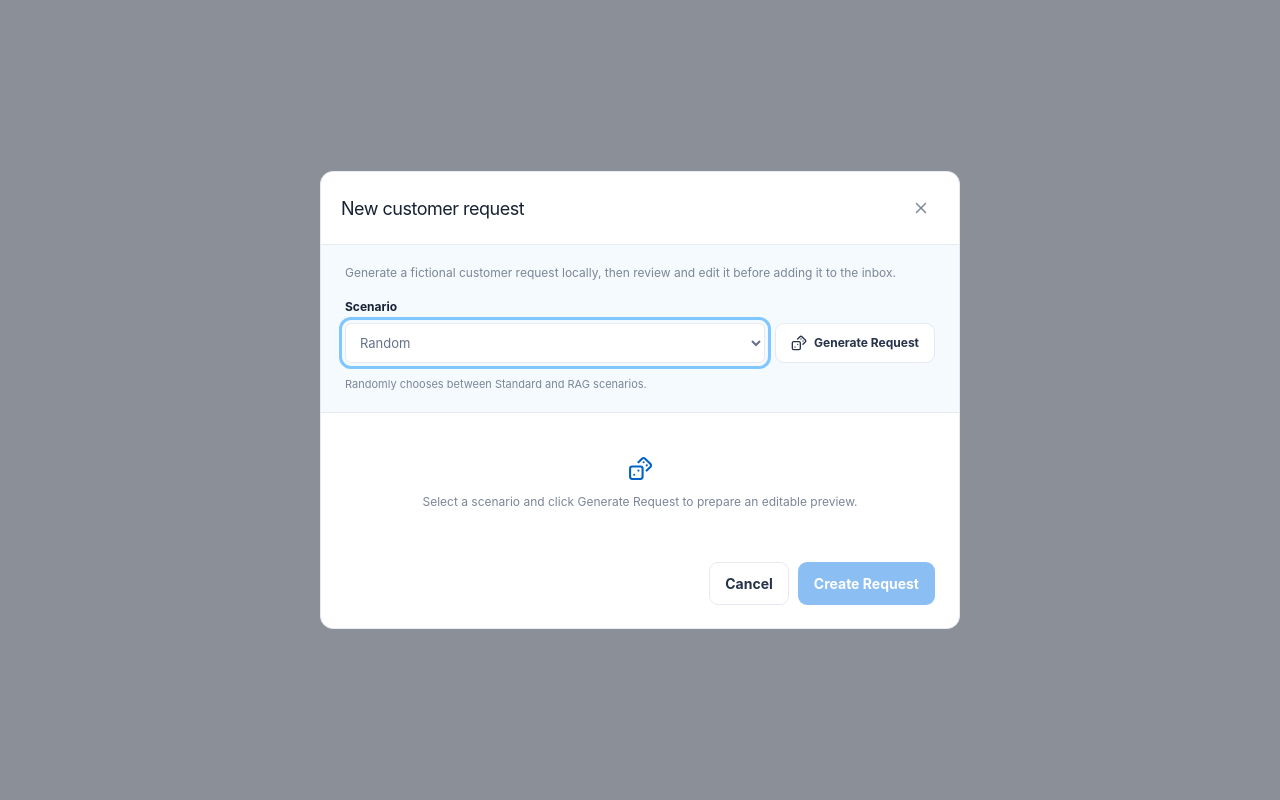
Scenario: regenerates another example without submitting anything
Select "Standard" in the dropdown labelled "Scenario" at (555, 343), box [345,323,765,363]
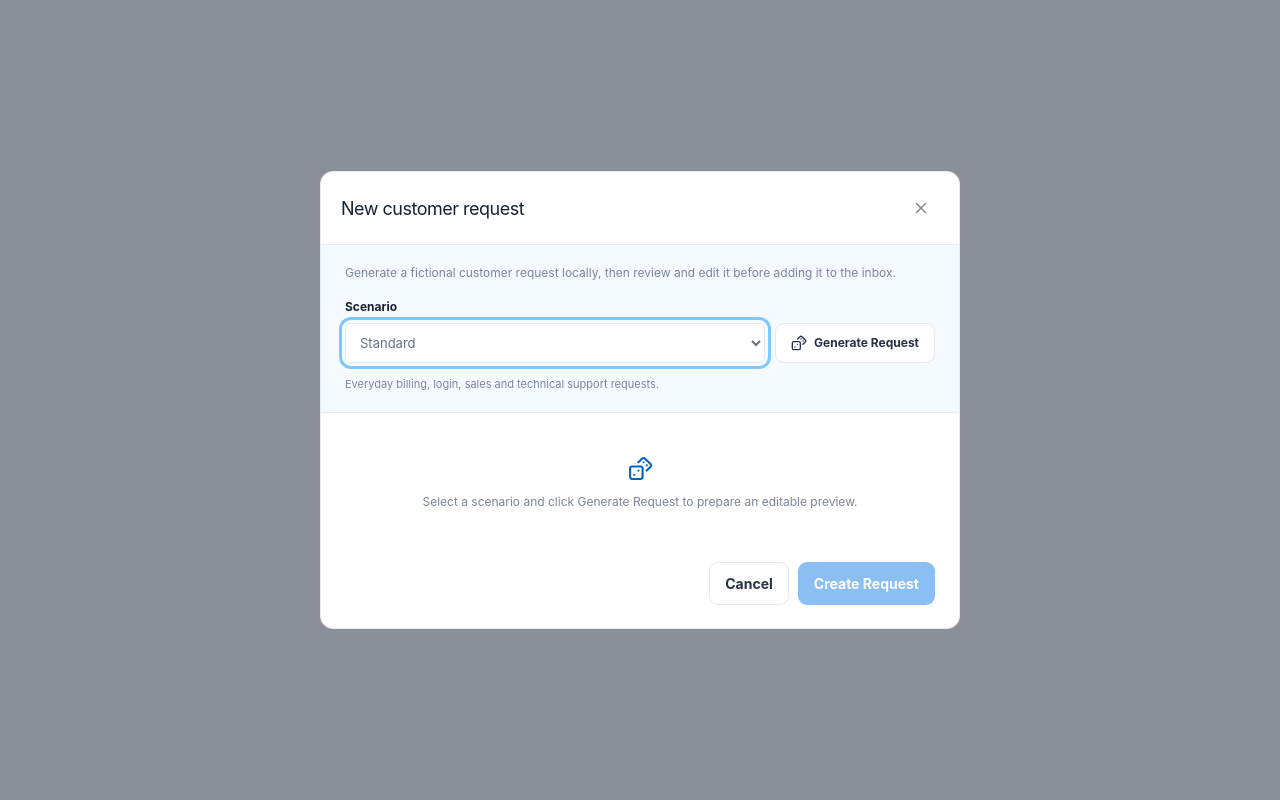
Click the button "Generate Request".
click(855, 343)  # box [775,323,935,363]
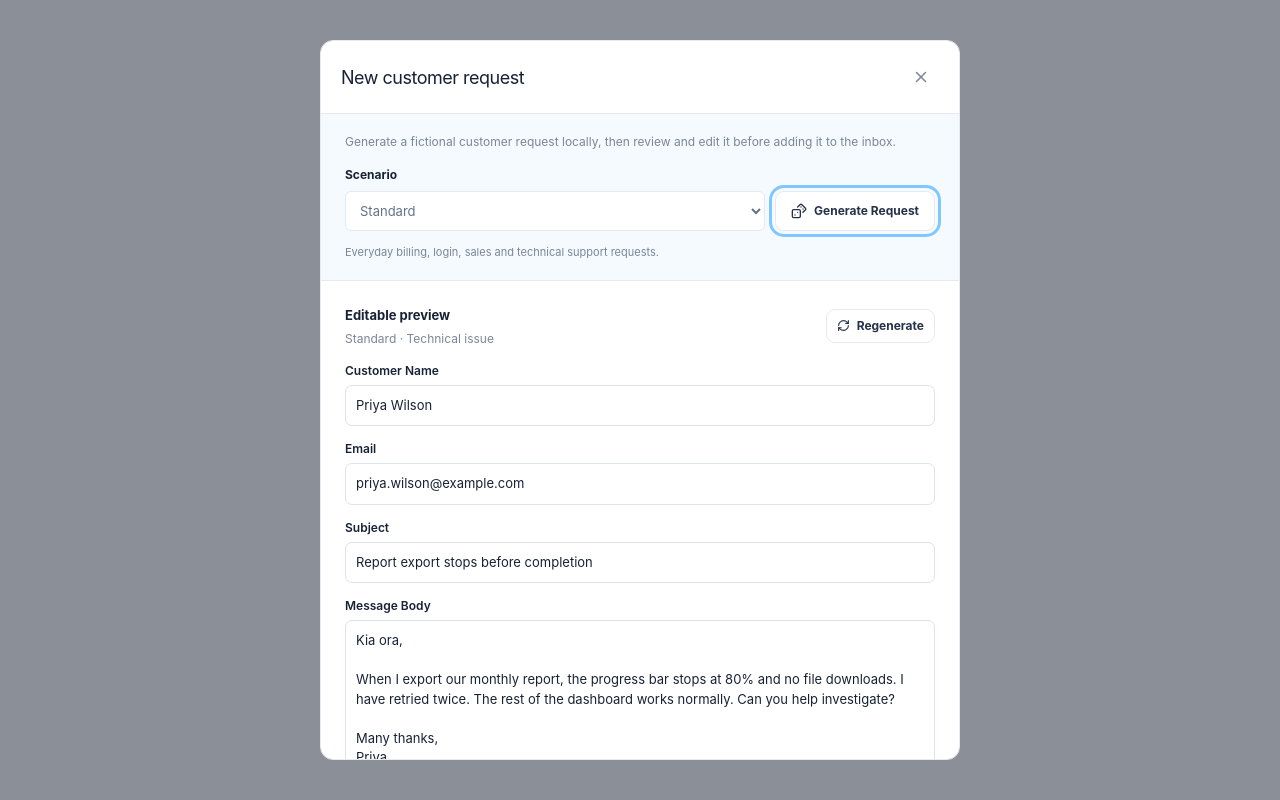
Click the button "Regenerate".
click(880, 326)  # box [826,309,935,343]
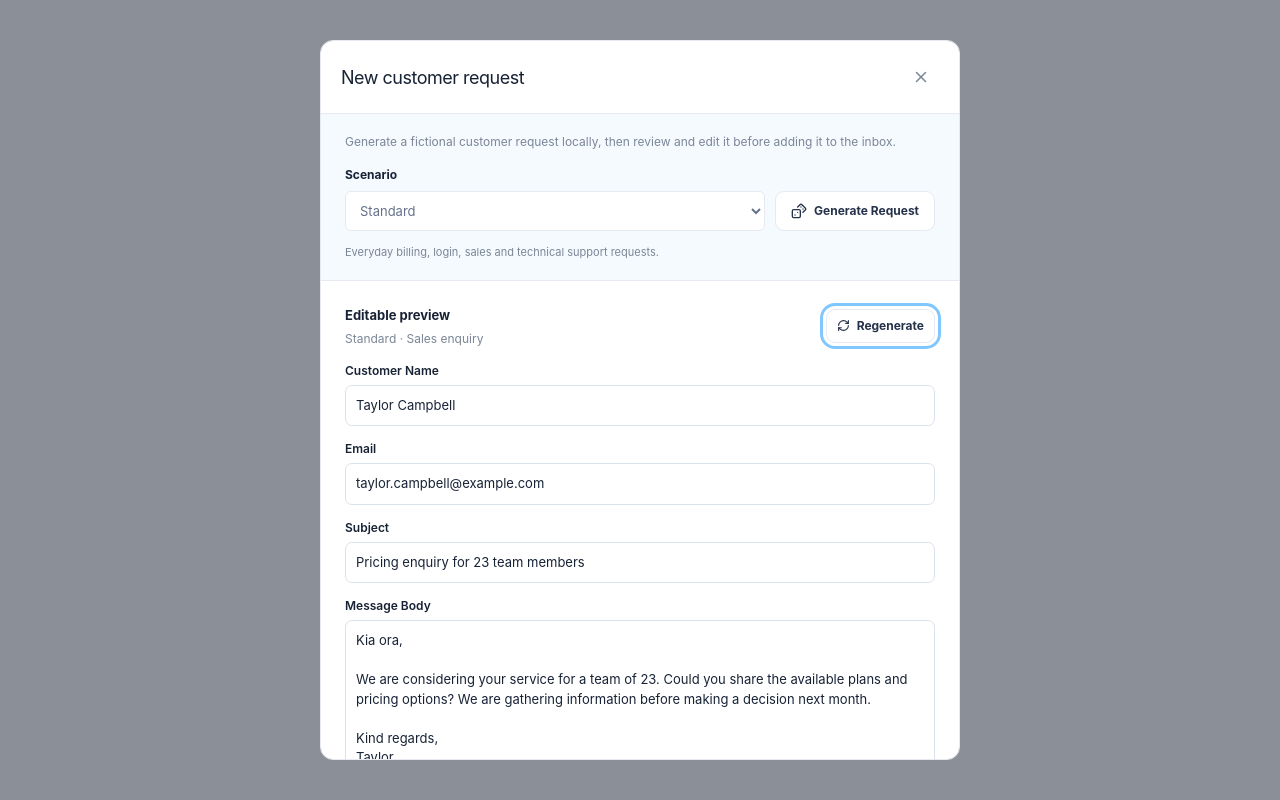
Expected: the field labelled "Subject" does not hold "Report export stops before completion", [345,542,935,583]
